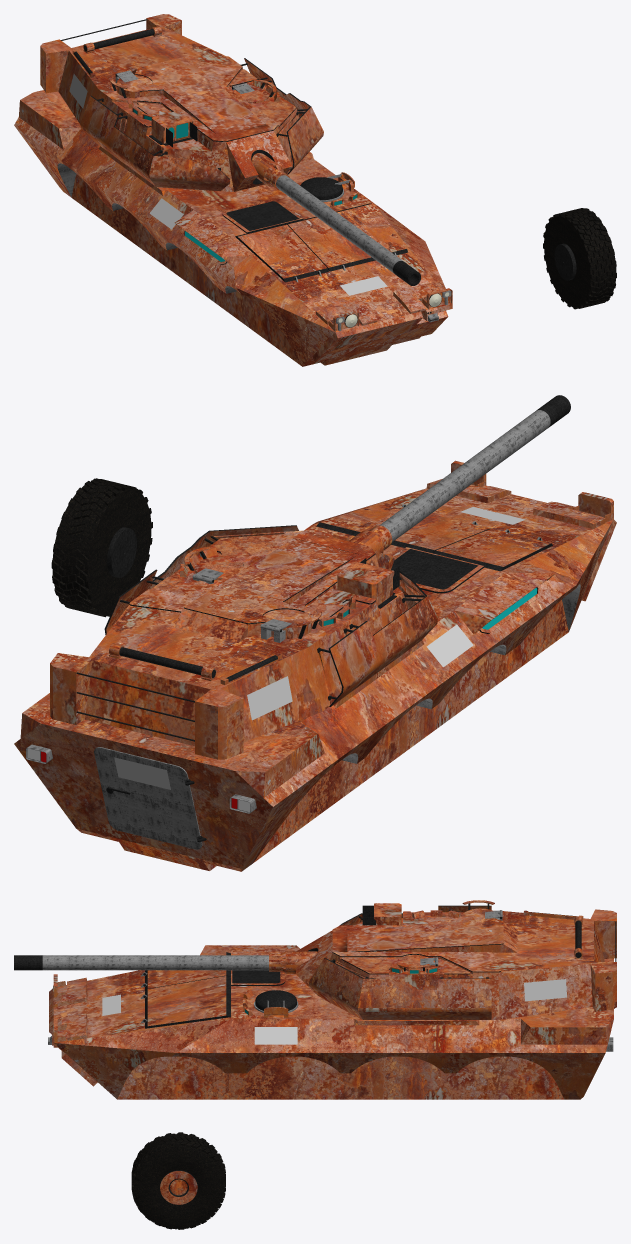
Rendered from Vehicle5.fbx.
3 views of the same model, one above another, from view 1: azimuth 30°, elevation 25°; view 2: azimuth 150°, elevation 25°; view 3: azimuth 270°, elevation 25° (orthographic). The views are drawn at different scales.
Visible parts, largest first — view 1: Vehicle6, roda; view 2: Vehicle6, roda; view 3: Vehicle6, roda.
Part boxes in pixels (bbox=[...]): Vehicle6: bbox=[14, 14, 452, 366]; roda: bbox=[543, 208, 616, 309]; Vehicle6: bbox=[14, 395, 616, 871]; roda: bbox=[51, 478, 152, 617]; Vehicle6: bbox=[14, 900, 616, 1099]; roda: bbox=[131, 1132, 225, 1229].
Bounding box in the file's own units: 560 × 271 × 839.
